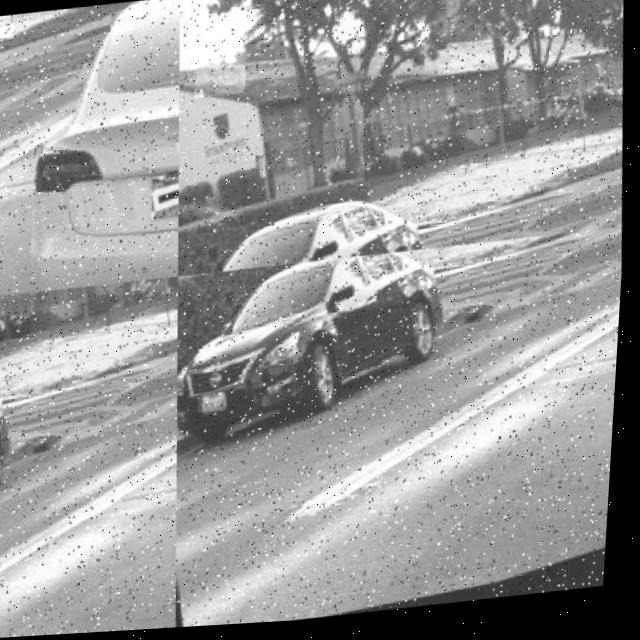LicensePlate: (193, 47, 249, 101), (0, 292, 36, 343), (204, 396, 228, 416), (0, 14, 16, 41)
